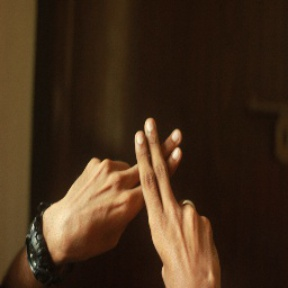F: (99, 109, 215, 241)
